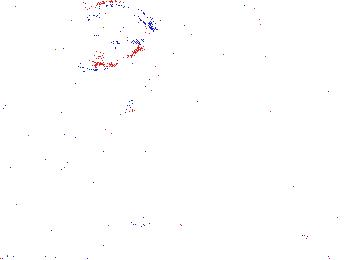moon jellyfish: (174, 11, 264, 79), (70, 1, 153, 72), (1, 1, 98, 54)
